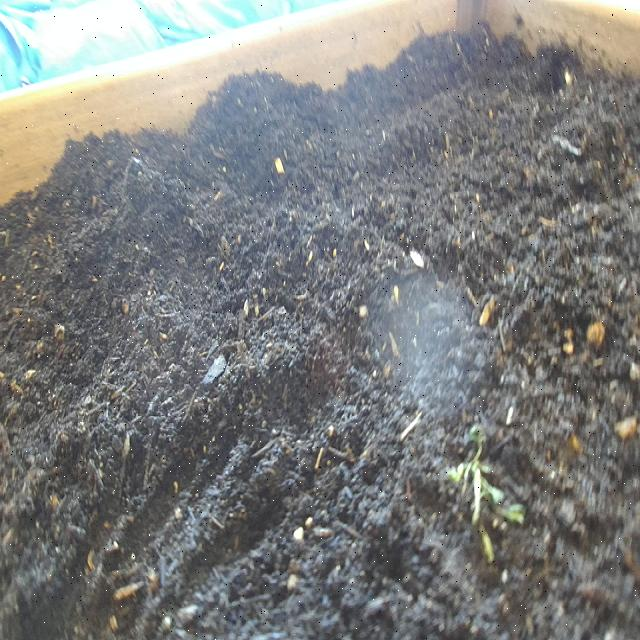Unhealthy: (445, 408, 530, 572)
